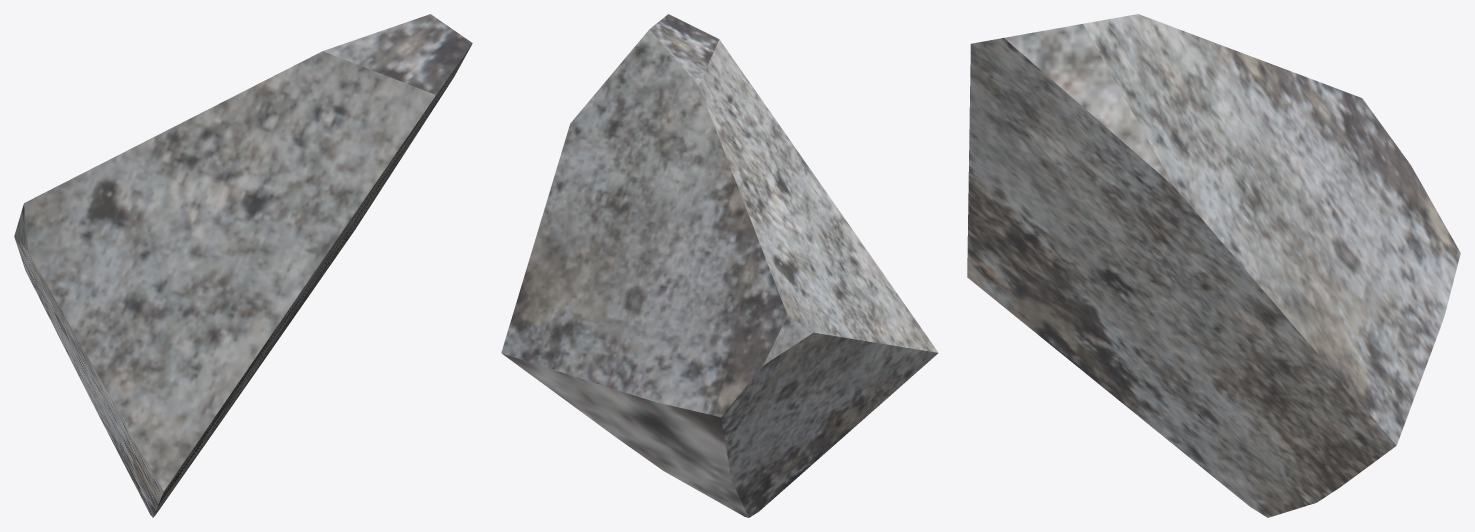
File: Asteroid_Large_001_02_003_03_010.fbx
3 renders of one model, left to right at view 1: azimuth 30°, elevation 25°; view 2: azimuth 150°, elevation 25°; view 3: azimuth 270°, elevation 25°, orthographic. The views are drawn at different scales.
Parts seen in each view (by area): view 1: Asteroid_Large_001_02_003_03_010; view 2: Asteroid_Large_001_02_003_03_010; view 3: Asteroid_Large_001_02_003_03_010.
Boxes of the visible parts, x1,y1,x2,y2 form: Asteroid_Large_001_02_003_03_010: (14,14,472,517); Asteroid_Large_001_02_003_03_010: (501,14,938,517); Asteroid_Large_001_02_003_03_010: (967,14,1460,517).
Bounding box in the file's own units: 5.83 × 7.52 × 5.52.
